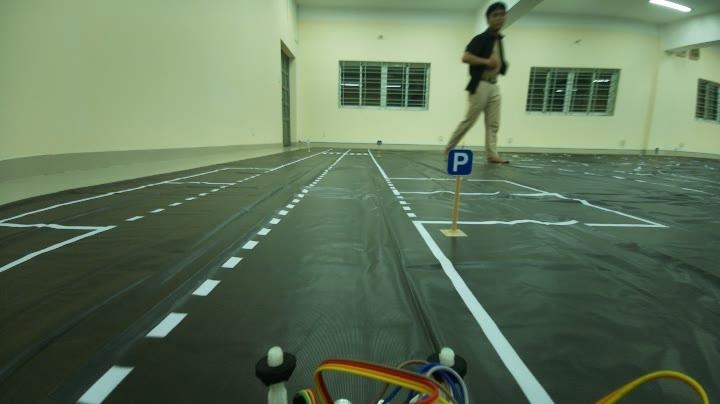parking: (443, 144, 474, 184)
